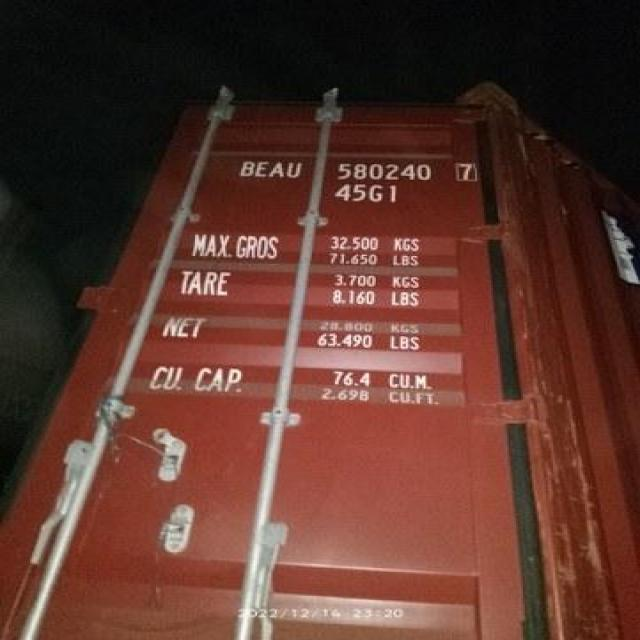container_number_h: (225, 138, 509, 223)
